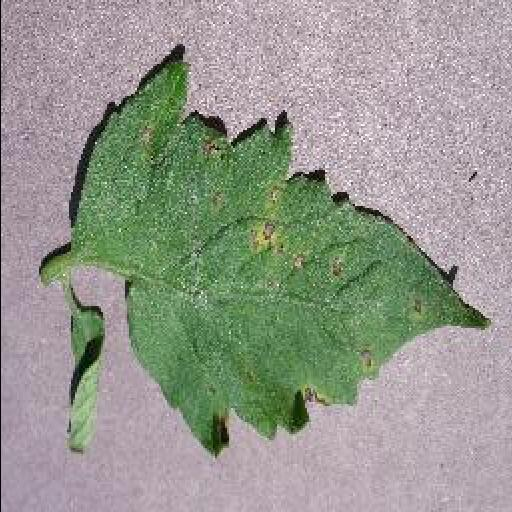disease_tomato: (70, 54, 492, 460)
